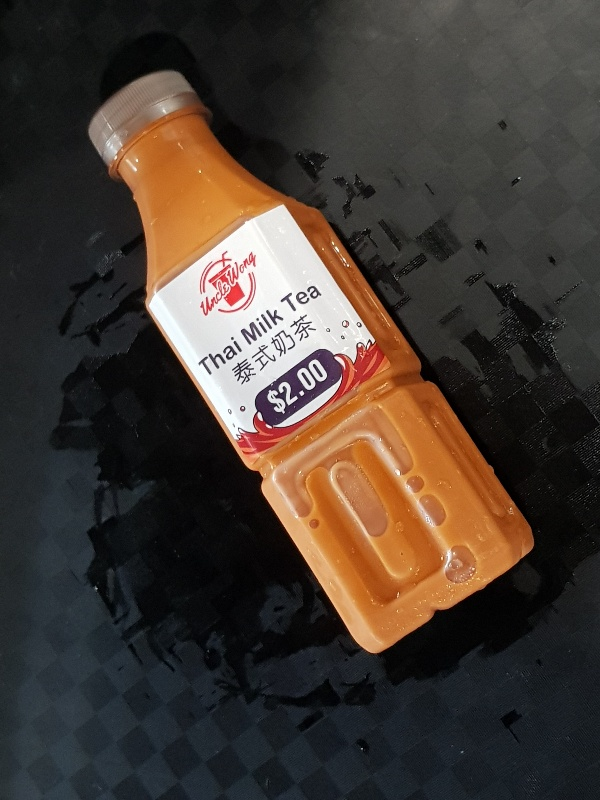Thai Milk Tea: (85, 70, 535, 653)
